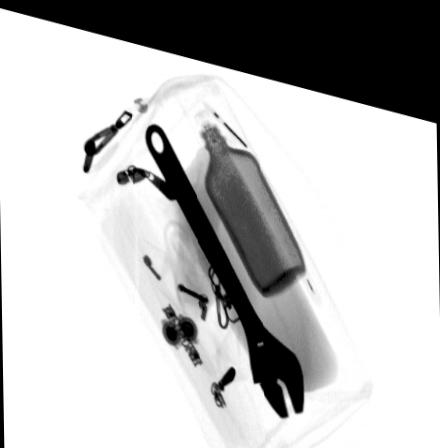Wrench: (143, 111, 304, 404)
